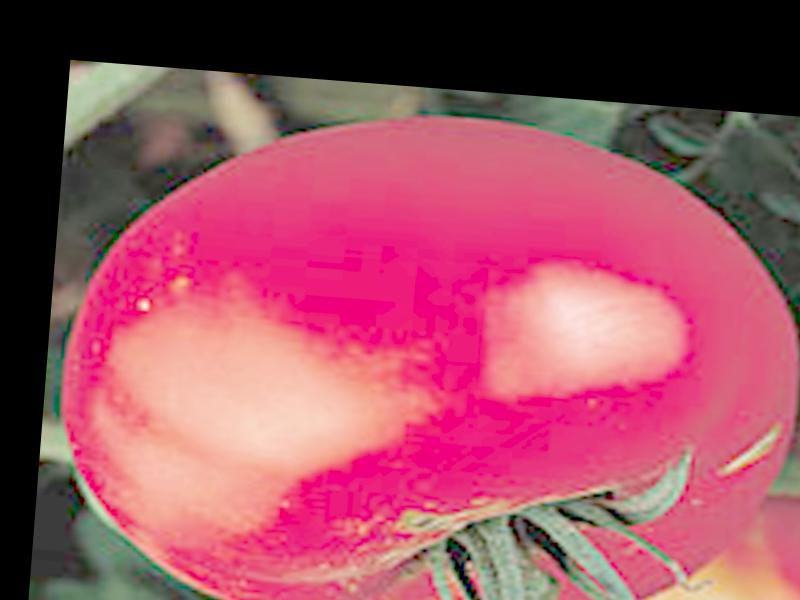Tomato: (50, 88, 800, 600)
